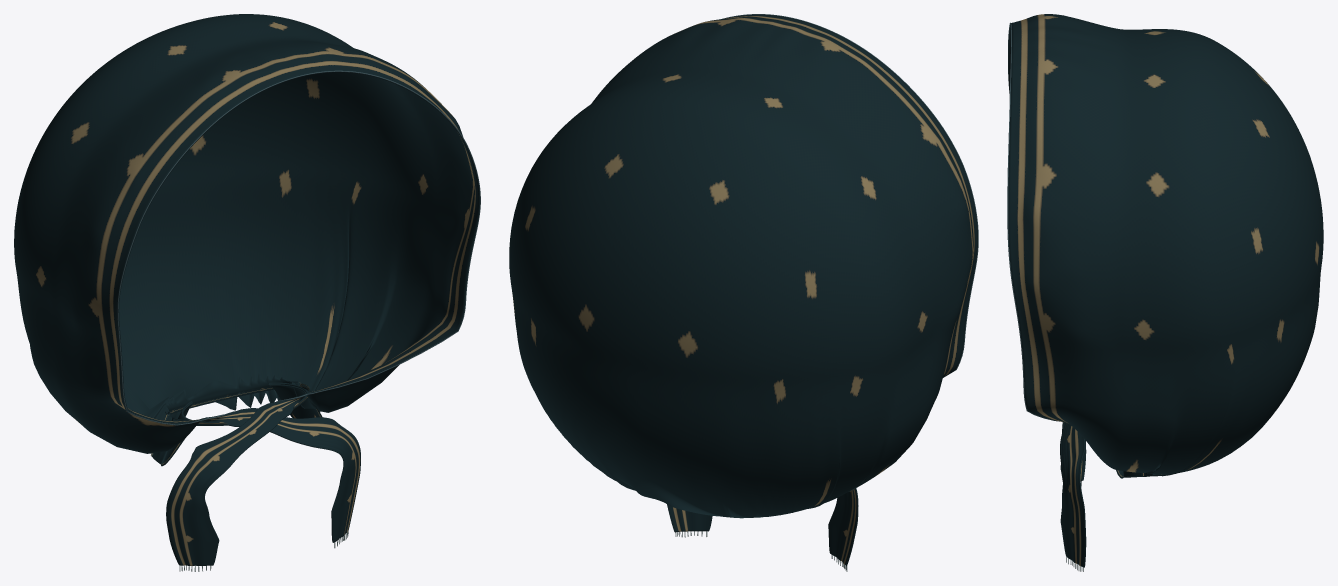
The model's file is Masculine-afro-shirtless-pashmina250-headgear.glb.
3 renders of one model, left to right at view 1: azimuth 30°, elevation 25°; view 2: azimuth 150°, elevation 25°; view 3: azimuth 270°, elevation 25°, orthographic. The views are drawn at different scales.
Visible parts, largest first — view 1: 226 headgear / Headwear / continuous woven pashmina239, 226 headgear / Headwear / face edge239; view 2: 226 headgear / Headwear / continuous woven pashmina239, 226 headgear / Headwear / face edge239; view 3: 226 headgear / Headwear / continuous woven pashmina239, 226 headgear / Headwear / face edge239.
Boxes of the visible parts, bbox=[...] form: 226 headgear / Headwear / continuous woven pashmina239: bbox=[14, 14, 479, 565]; 226 headgear / Headwear / face edge239: bbox=[117, 70, 480, 425]; 226 headgear / Headwear / continuous woven pashmina239: bbox=[509, 14, 977, 566]; 226 headgear / Headwear / face edge239: bbox=[721, 14, 978, 377]; 226 headgear / Headwear / continuous woven pashmina239: bbox=[1008, 14, 1323, 567]; 226 headgear / Headwear / face edge239: bbox=[1007, 22, 1059, 421].
Bounding box in the file's own units: 1.14 × 1.45 × 0.833.
Materials: 3 (1 with a texture image).
